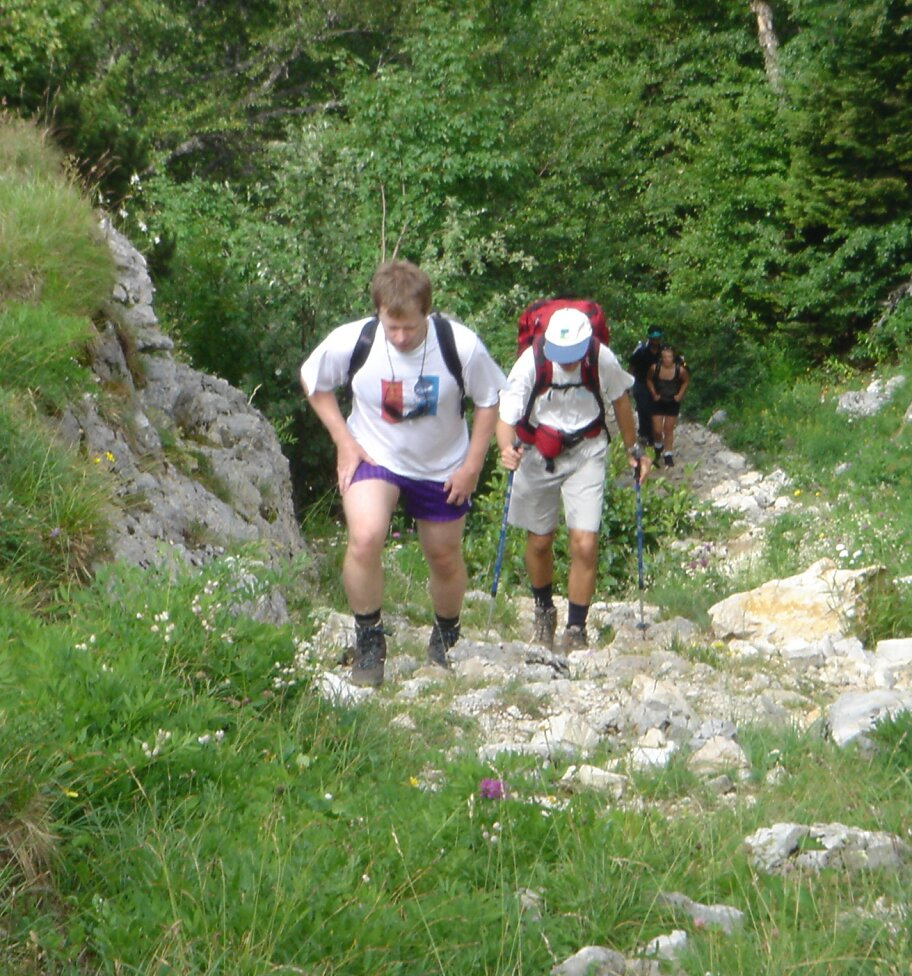person: (288, 258, 500, 697), (479, 297, 642, 658), (638, 345, 694, 469)
